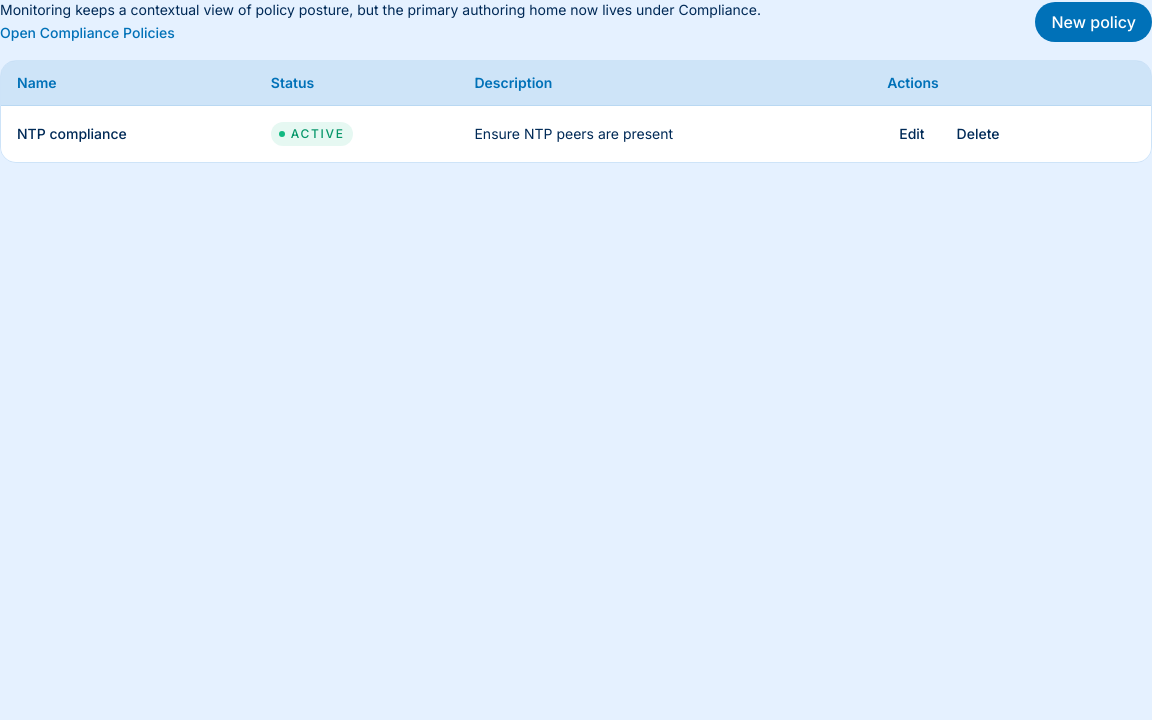
Test: MonitoringPoliciesPage › renders policies table and opens create modal
Check: the text "NTP compliance" is shown, box [17,125,127,142]
What coordinates should you click on to do the following:
click the button "New policy"
I would click on:
 (1094, 22)
Its box is [1036,2,1151,42].
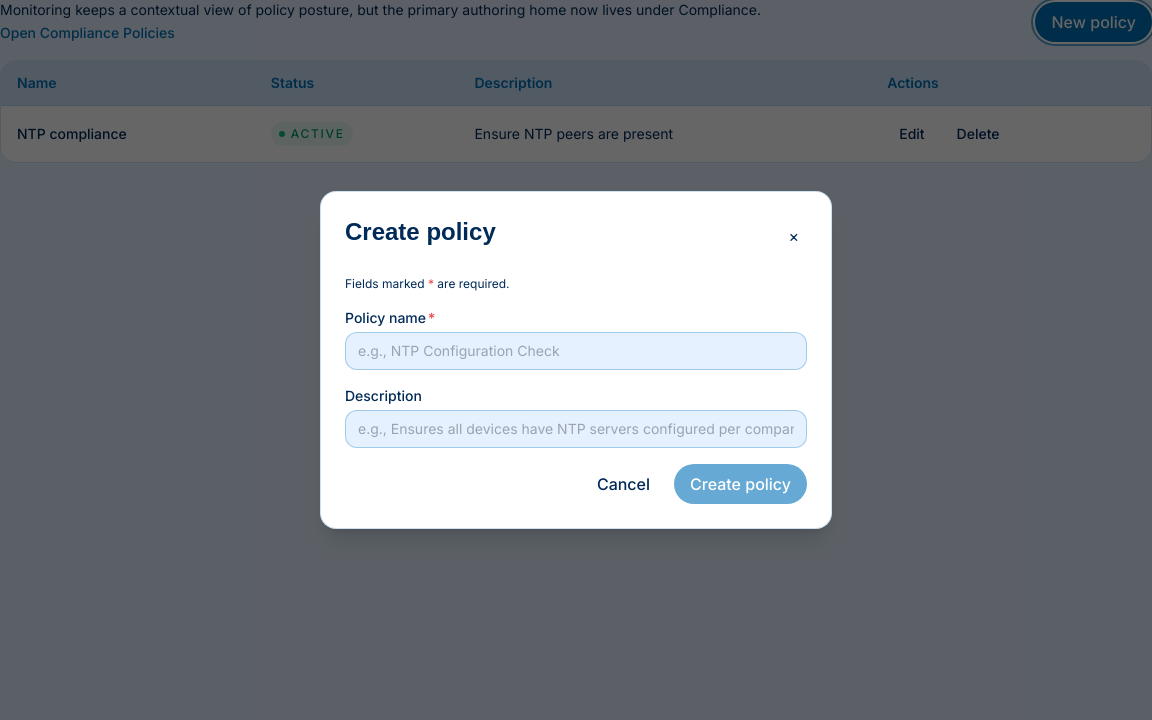
Check: the heading "Create policy" is shown, box [345,216,496,248]
